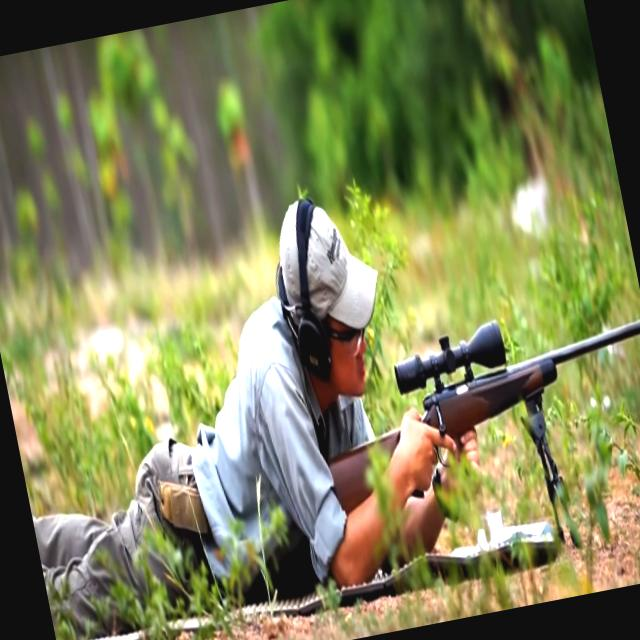rifle: (289, 263, 640, 540)
